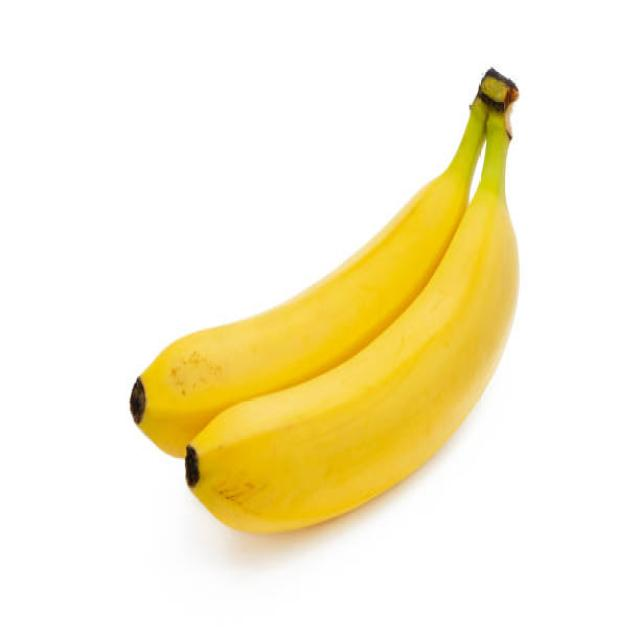Ripe: (186, 110, 523, 538)
